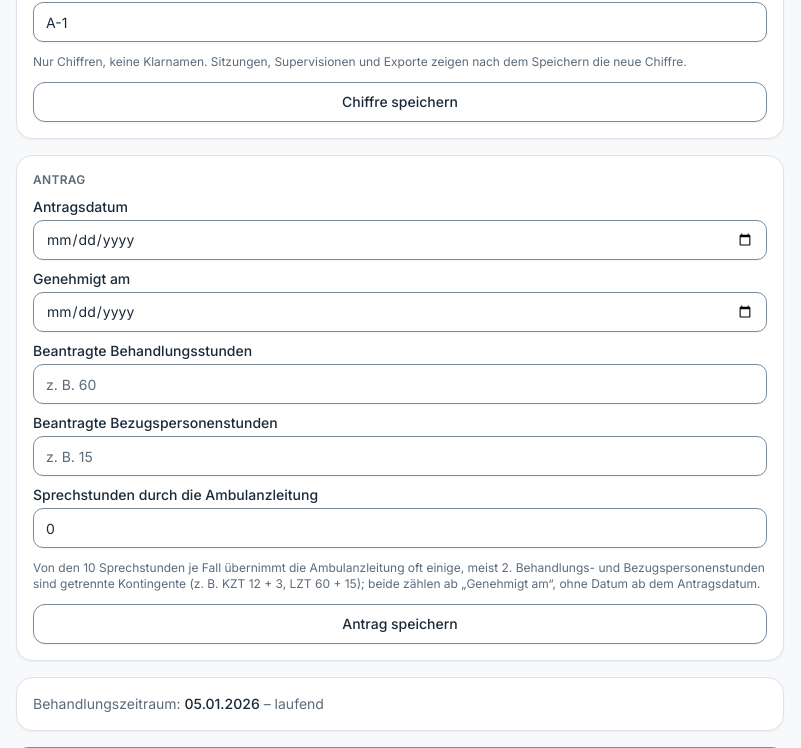
Test: PatientDetailClient › zeigt einen Fehler beim Antrag in der Antrag-Karte
(page scrolled)
Type "12" into the number field labelled "Beantragte Behandlungsstunden".
click(400, 384); type("12")  # box [33,364,767,404]
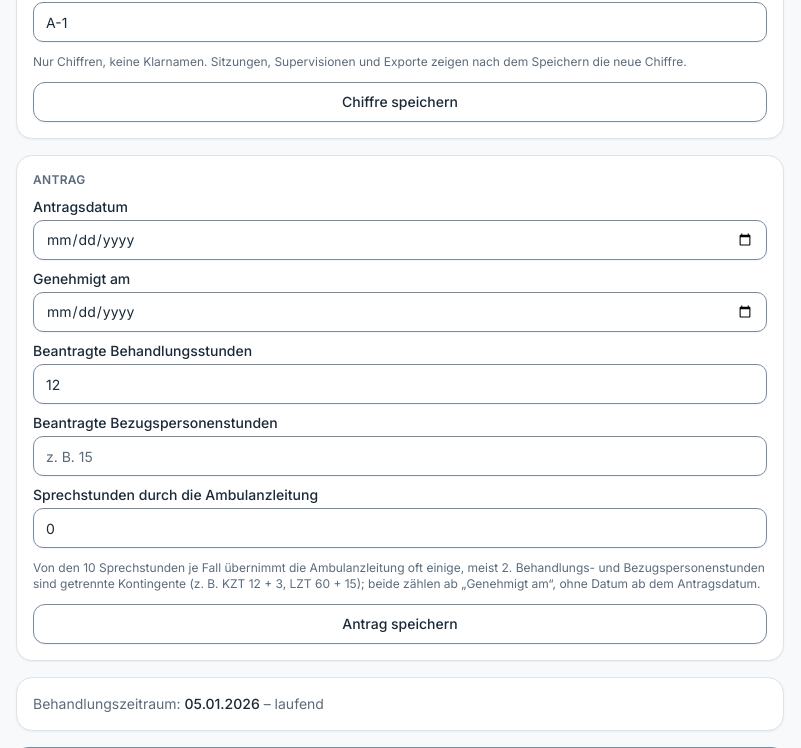
Click the button "Antrag speichern".
click(400, 624)  # box [33,604,767,644]
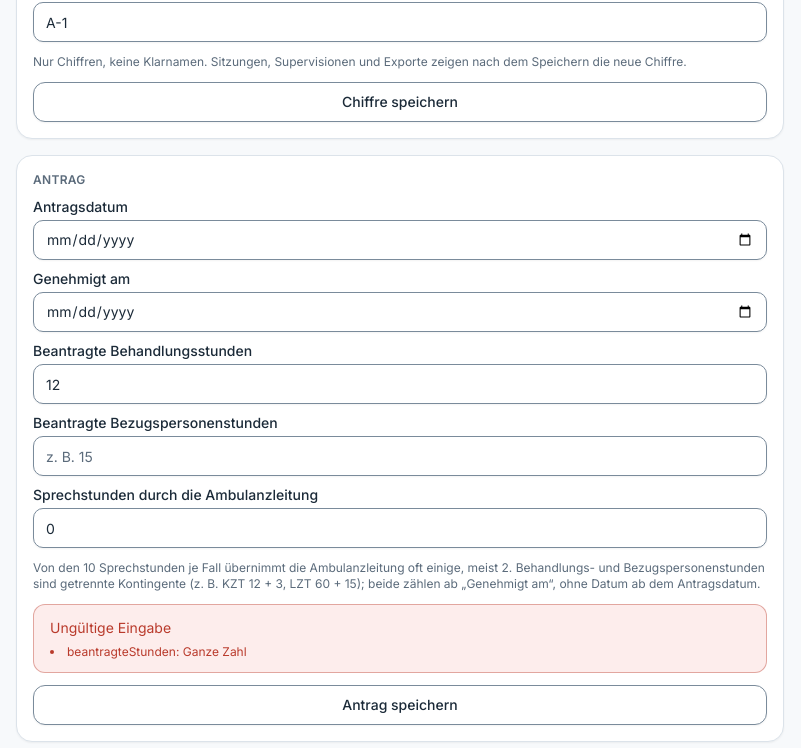
Check: the message shows "Ganze Zahl", box [183,644,247,659]
